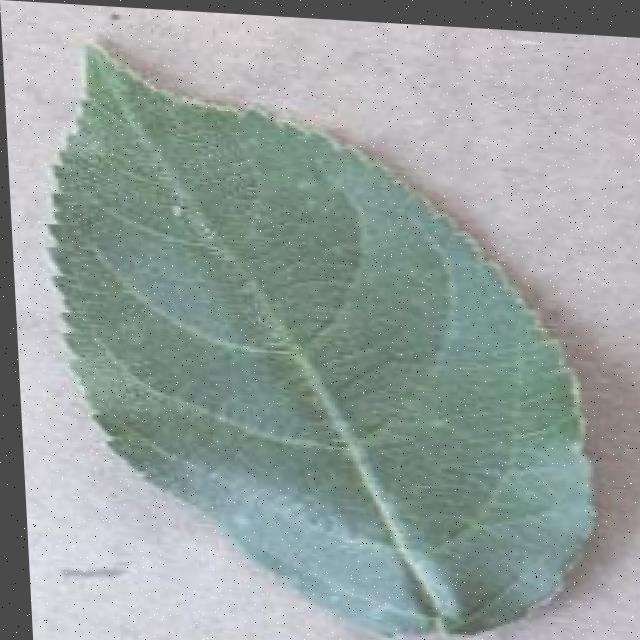healthy: (19, 27, 618, 640)
